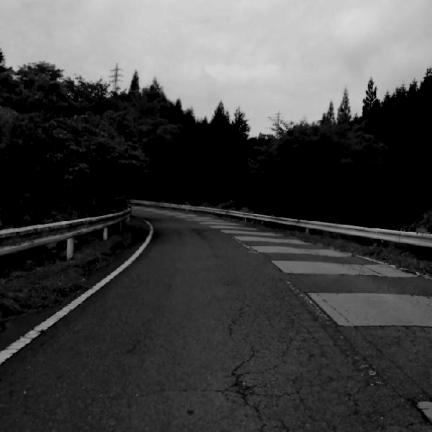Road: (0, 209, 431, 431)
